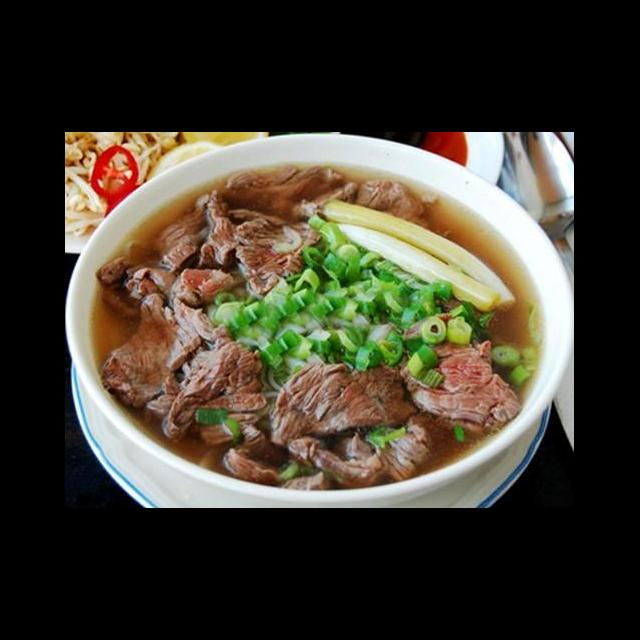banh pho: (198, 293, 392, 394)
pho bo: (66, 158, 572, 508)
thit bo: (98, 288, 232, 417), (394, 303, 522, 432), (153, 326, 270, 446), (266, 359, 422, 447), (286, 405, 442, 488), (92, 251, 240, 318), (210, 163, 364, 227), (214, 417, 334, 496), (148, 189, 242, 272), (230, 216, 320, 300), (353, 176, 442, 239)
